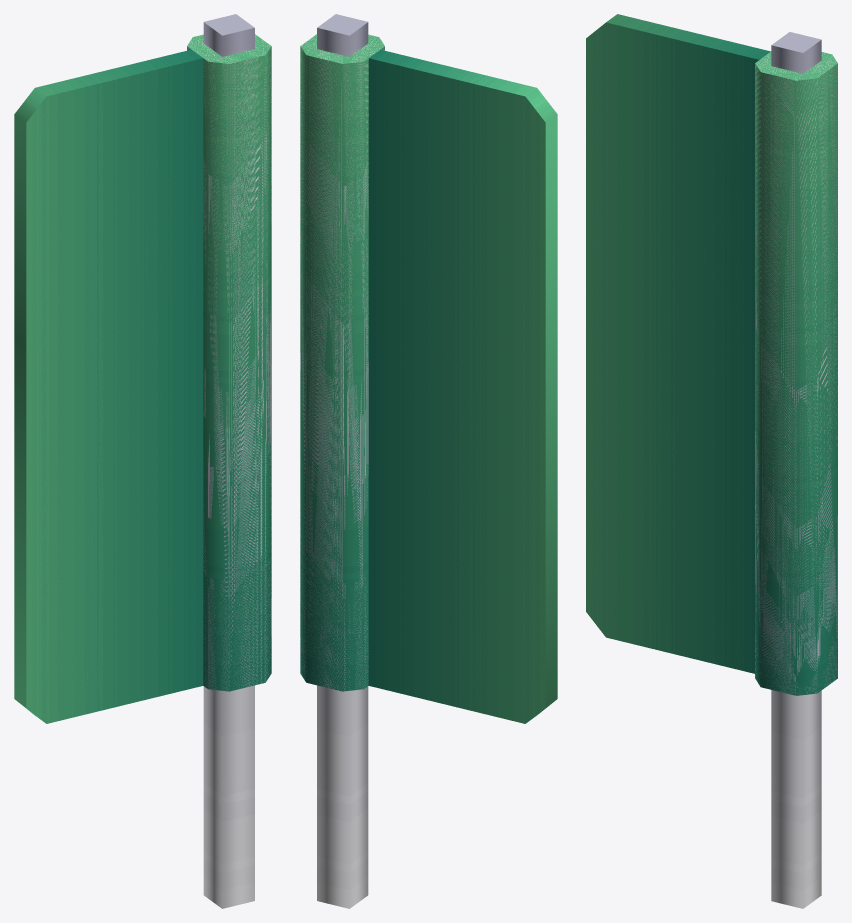
The model's file is flag_large_green.glb.
3 renders of one model, left to right at view 1: azimuth 30°, elevation 25°; view 2: azimuth 150°, elevation 25°; view 3: azimuth 330°, elevation 25°, orthographic. The views are drawn at different scales.
Visible parts, largest first — view 1: flag-large-green; view 2: flag-large-green; view 3: flag-large-green.
Part boxes in pixels (x1,y1,x2,y2): flag-large-green: [14, 14, 271, 908]; flag-large-green: [300, 14, 557, 908]; flag-large-green: [586, 14, 837, 908].
Size of the model in its own units: 0.2956 by 1.02 by 0.0781.
1 material, 1 textured.
